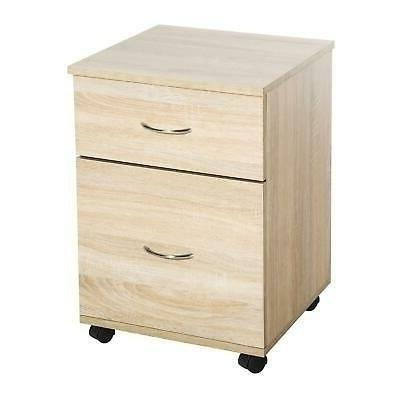cabinet_door: (81, 172, 264, 335), (78, 86, 264, 168)
handle: (143, 246, 197, 268), (141, 120, 194, 142)
